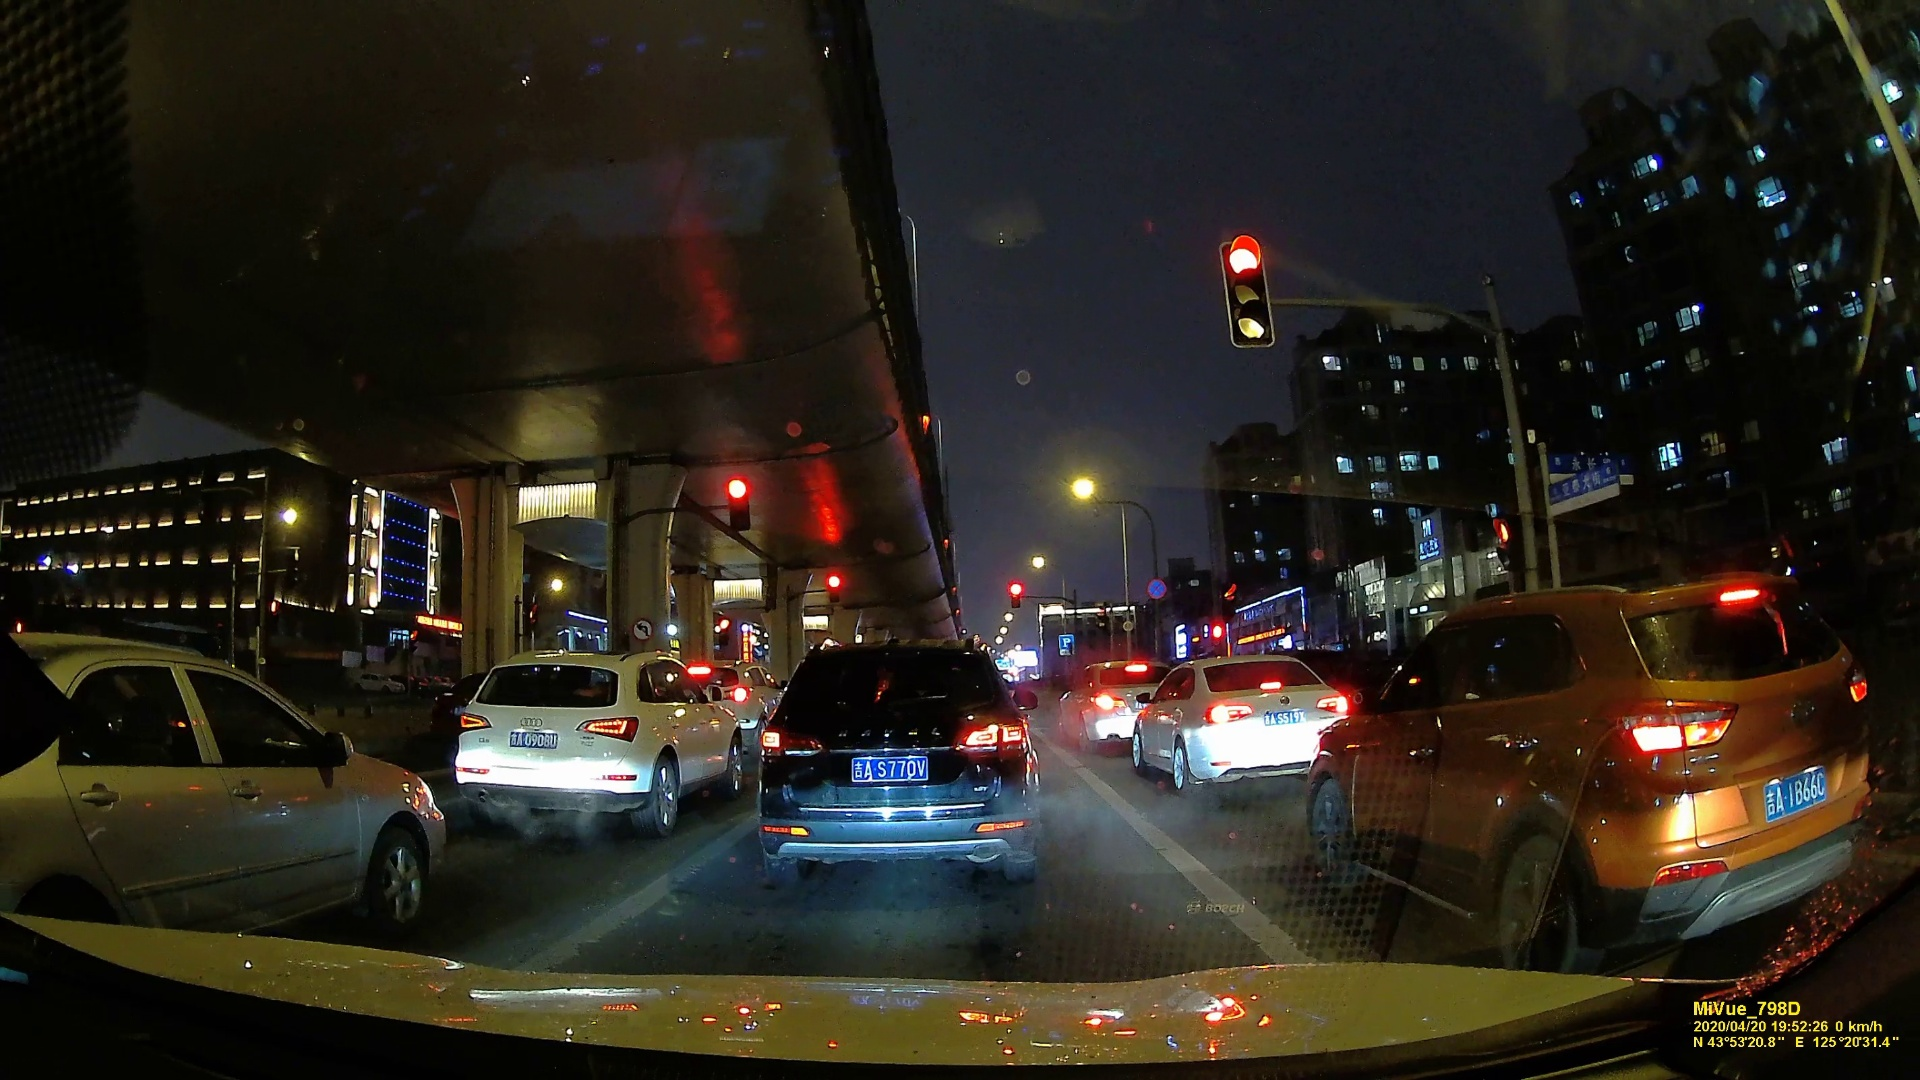traffic_sign: (1225, 236, 1279, 349), (1536, 469, 1623, 509), (1490, 513, 1520, 574), (723, 475, 748, 526), (1146, 576, 1168, 607), (824, 574, 843, 603), (1007, 583, 1023, 613), (633, 618, 653, 640)
vehicle: (1337, 579, 1876, 968), (1, 644, 440, 936), (754, 630, 1044, 890), (444, 647, 748, 833), (1129, 650, 1352, 794), (1064, 658, 1156, 754)
